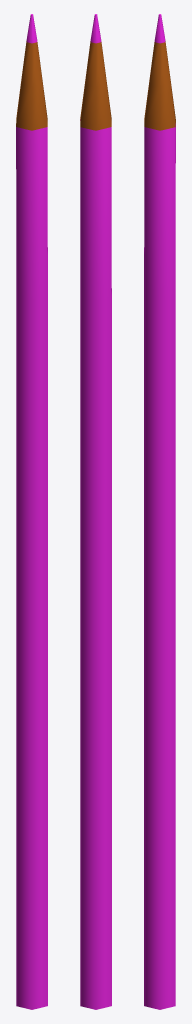
The model's file is A_AH_ColoredPencil_001.fbx.
3 views of the same model, side by side, from view 1: azimuth 90°, elevation 25°; view 2: azimuth 150°, elevation 25°; view 3: azimuth 270°, elevation 25° (orthographic).
Visible parts, largest first — view 1: pencil; view 2: pencil; view 3: pencil.
Boxes of the visible parts, <box> form: pencil: <box>16,14,47,1009</box>; pencil: <box>80,14,111,1009</box>; pencil: <box>144,14,175,1009</box>.
Bounding box in the file's own units: 0.56 × 16.73 × 0.4873.
